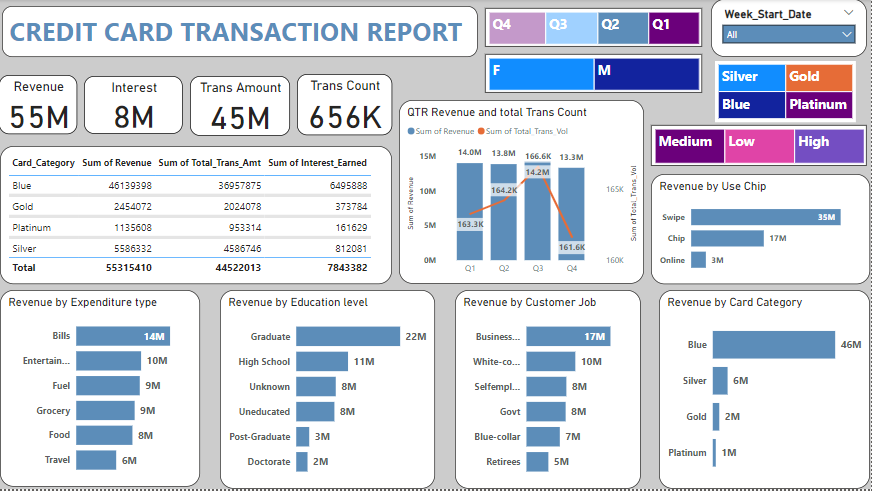

The page's visual inventory and layout, read from the dashboard file:
{"tool":"powerbi","page":{"name":"Credit Card Transaction","canvas":[1280,720],"ordinal":0},"visuals":[{"type":"textbox","box":[4.4,10.3,699.4,74.9],"z":0},{"type":"lineStackedColumnComboChart","title":"QTR Revenue and total Trans Count","fields":{"Category":["credit_card.Qtr"],"Y":["Sum(credit_card.Revenue)"],"Y2":["Sum(credit_card.Total_Trans_Vol)"]},"box":[587.8,148.4,360,270.4],"z":1000},{"type":"barChart","title":"Revenue by Expenditure type","fields":{"Y":["Sum(credit_card.Revenue)"],"Category":["credit_card.Exp Type"]},"box":[1.5,427.6,293.9,289.5],"z":2000},{"type":"barChart","title":"Revenue by Education level","fields":{"Y":["Sum(credit_card.Revenue)"],"Category":["customer.Education_Level"]},"box":[324.7,427.6,315.9,292.4],"z":3000},{"type":"barChart","title":"Revenue by Customer Job","fields":{"Y":["Sum(credit_card.Revenue)"],"Category":["customer.Customer_Job"]},"box":[670,427.6,273.3,292.4],"z":4000},{"type":"barChart","title":"Revenue by Card Category","fields":{"Y":["Sum(credit_card.Revenue)"],"Category":["credit_card.Card_Category"]},"box":[970,427.6,310,292.4],"z":5000},{"type":"barChart","title":"Revenue by Use Chip","fields":{"Y":["Sum(credit_card.Revenue)"],"Category":["credit_card.Use Chip"]},"box":[958,257.1,321.8,161.6],"z":6000},{"type":"tableEx","fields":{"Values":["credit_card.Card_Category","Sum(credit_card.Revenue)","Sum(credit_card.Total_Trans_Amt)","Sum(credit_card.Interest_Earned)"]},"box":[1.5,216,576,202.8],"z":7000},{"type":"card","title":"Revenue","fields":{"Values":["Sum(credit_card.Revenue)"]},"box":[0,111.7,114.6,86.7],"z":8000},{"type":"card","title":"Interest","fields":{"Values":["Sum(credit_card.Interest_Earned)"]},"box":[124.9,113.1,145.5,85.2],"z":9000},{"type":"card","title":" Trans Amount","fields":{"Values":["Sum(credit_card.Total_Trans_Amt)"]},"box":[280.7,113.1,146.9,88.2],"z":10000},{"type":"card","title":"Trans Count","fields":{"Values":["Sum(credit_card.Total_Trans_Vol)"]},"box":[437.9,110.2,139.6,89.6],"z":11000},{"type":"slicer","fields":{"Values":["credit_card.Week_Start_Date"]},"box":[1046.2,0,229.2,85.2],"z":12000},{"type":"treemap","fields":{"Group":["credit_card.Qtr"],"Values":["Avg(customer.Client_Num)"]},"box":[714.1,13.2,318.9,57.3],"z":13000},{"type":"treemap","fields":{"Values":["Avg(customer.Client_Num)"],"Group":["customer.Gender"]},"box":[714.1,80.8,318.9,57.3],"z":14000},{"type":"treemap","fields":{"Values":["Avg(customer.Client_Num)"],"Group":["credit_card.Card_Category"]},"box":[1052.1,91.1,207.2,89.6],"z":15000},{"type":"treemap","fields":{"Values":["Avg(customer.Client_Num)"],"Group":["customer.income group"]},"box":[958,185.1,317.4,60.2],"z":16000}]}

Visuals, with their boxes in screenshot pixels (x1, y1, x2, y2), scaled from the page's 1280x720 canvas onto the 872x491 screenshot:
textbox: {"left": 3, "top": 7, "right": 479, "bottom": 58}
"QTR Revenue and total Trans Count" lineStackedColumnComboChart: {"left": 400, "top": 101, "right": 646, "bottom": 286}
"Revenue by Expenditure type" barChart: {"left": 1, "top": 292, "right": 201, "bottom": 489}
"Revenue by Education level" barChart: {"left": 221, "top": 292, "right": 436, "bottom": 490}
"Revenue by Customer Job" barChart: {"left": 456, "top": 292, "right": 643, "bottom": 490}
"Revenue by Card Category" barChart: {"left": 661, "top": 292, "right": 871, "bottom": 490}
"Revenue by Use Chip" barChart: {"left": 653, "top": 175, "right": 871, "bottom": 286}
tableEx - credit_card.Card_Category x Sum(credit_card.Revenue): {"left": 1, "top": 147, "right": 393, "bottom": 286}
"Revenue" card: {"left": 0, "top": 76, "right": 78, "bottom": 135}
"Interest" card: {"left": 85, "top": 77, "right": 184, "bottom": 135}
" Trans Amount" card: {"left": 191, "top": 77, "right": 291, "bottom": 137}
"Trans Count" card: {"left": 298, "top": 75, "right": 393, "bottom": 136}
slicer - credit_card.Week_Start_Date: {"left": 713, "top": 0, "right": 869, "bottom": 58}
treemap - credit_card.Qtr x Avg(customer.Client_Num): {"left": 486, "top": 9, "right": 704, "bottom": 48}
treemap - Avg(customer.Client_Num) x customer.Gender: {"left": 486, "top": 55, "right": 704, "bottom": 94}
treemap - Avg(customer.Client_Num) x credit_card.Card_Category: {"left": 717, "top": 62, "right": 858, "bottom": 123}
treemap - Avg(customer.Client_Num) x customer.income group: {"left": 653, "top": 126, "right": 869, "bottom": 167}
